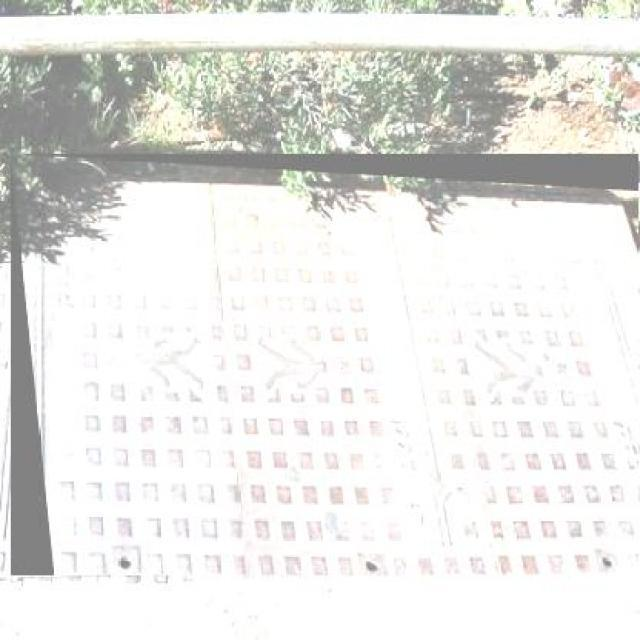Manhole: (11, 155, 376, 582), (377, 184, 636, 586)
